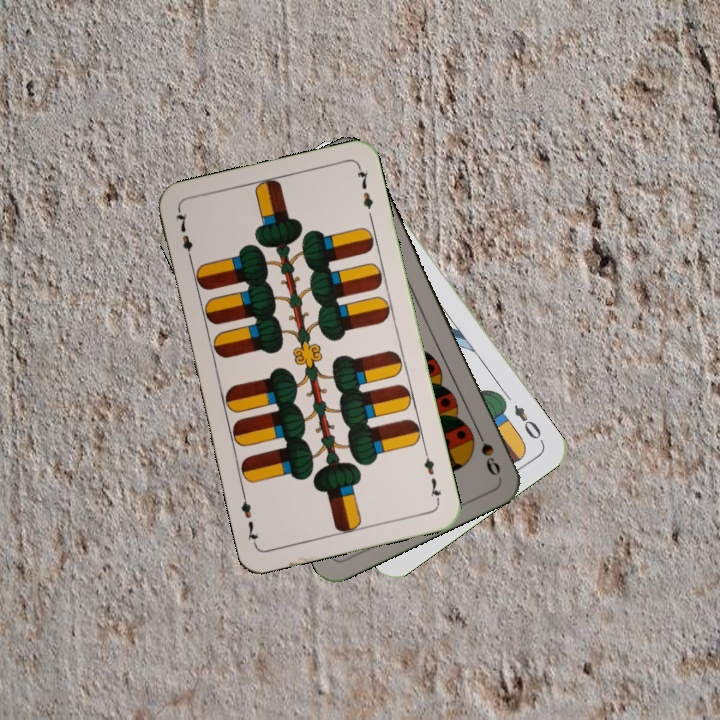E7: (171, 207, 196, 265), (420, 446, 444, 505)
EO: (509, 400, 544, 443)
S9: (471, 422, 503, 478)
